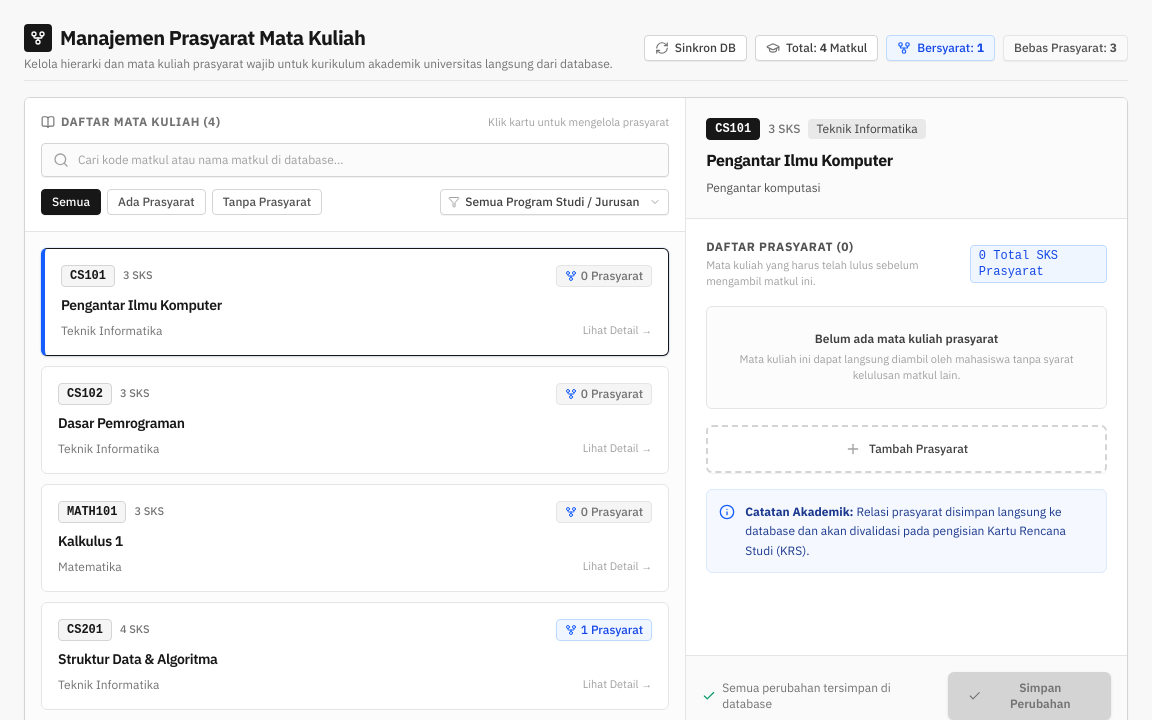
Test: SubjectPrerequisitesPage › removes a prerequisite when clicking the 'X' button and enables 'Simpan Perubahan'
This screenshot has width=1152, height=720.
Check: the text "CS201" is shown, box [58,618,112,640]
Click the button "CS201" at [85, 630], box [41,602,669,710]
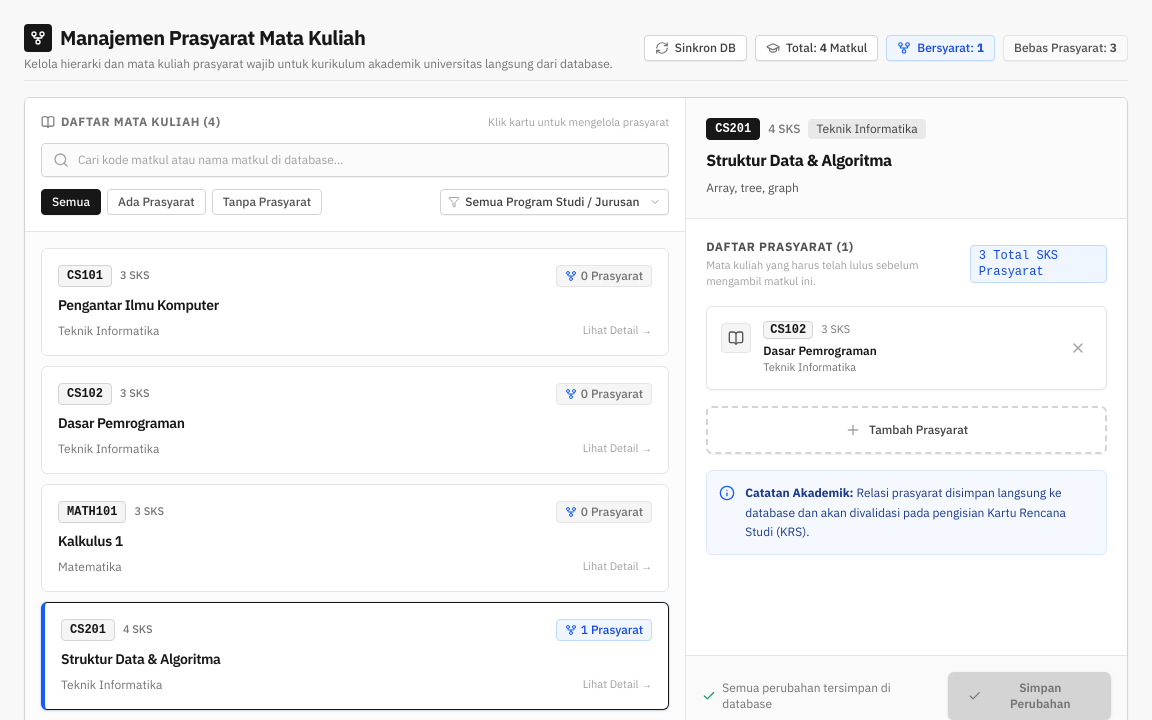
Check: the button "Simpan Perubahan" is disabled, box [948,672,1111,719]
Check: the button titled "Hapus prasyarat CS102" is shown
Click remove
Click the button titled "Hapus prasyarat CS102" at [1078, 348], box [1064,334,1092,362]
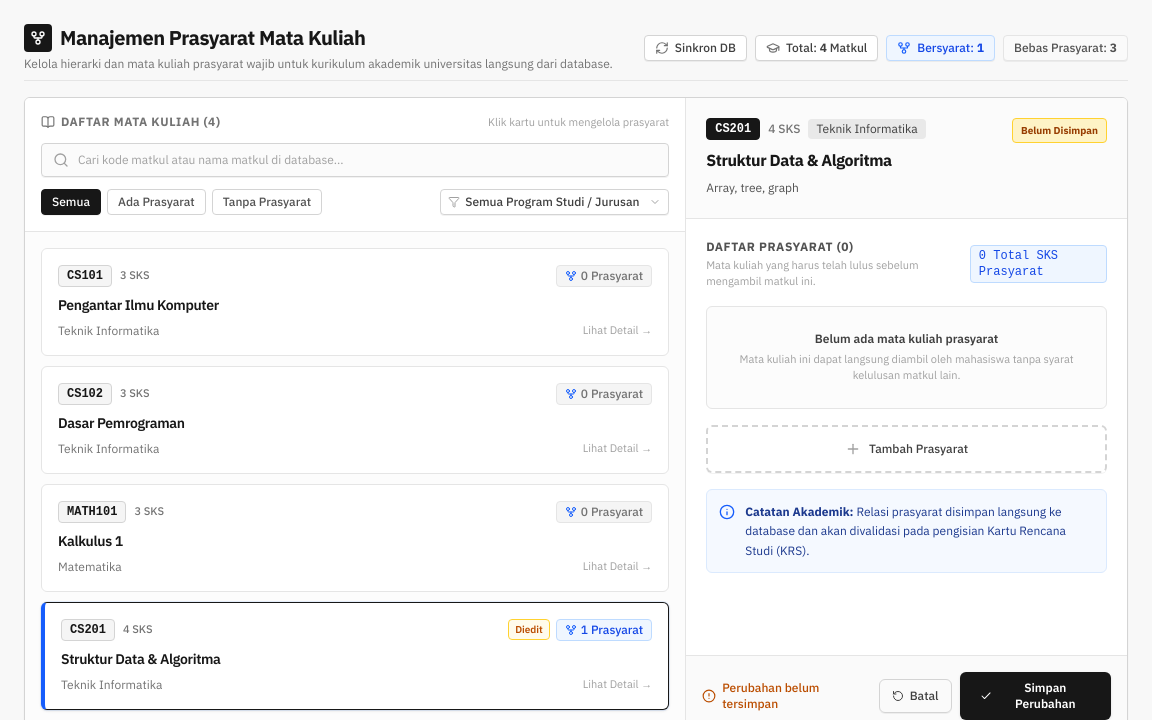
Check: the text "Perubahan belum tersimpan" is shown, box [722,680,820,711]
Check: the button "Simpan Perubahan" is enabled, box [960,672,1111,719]
Click 'Batal' to restore
Click the button "Batal" at [915, 696], box [879,679,952,713]
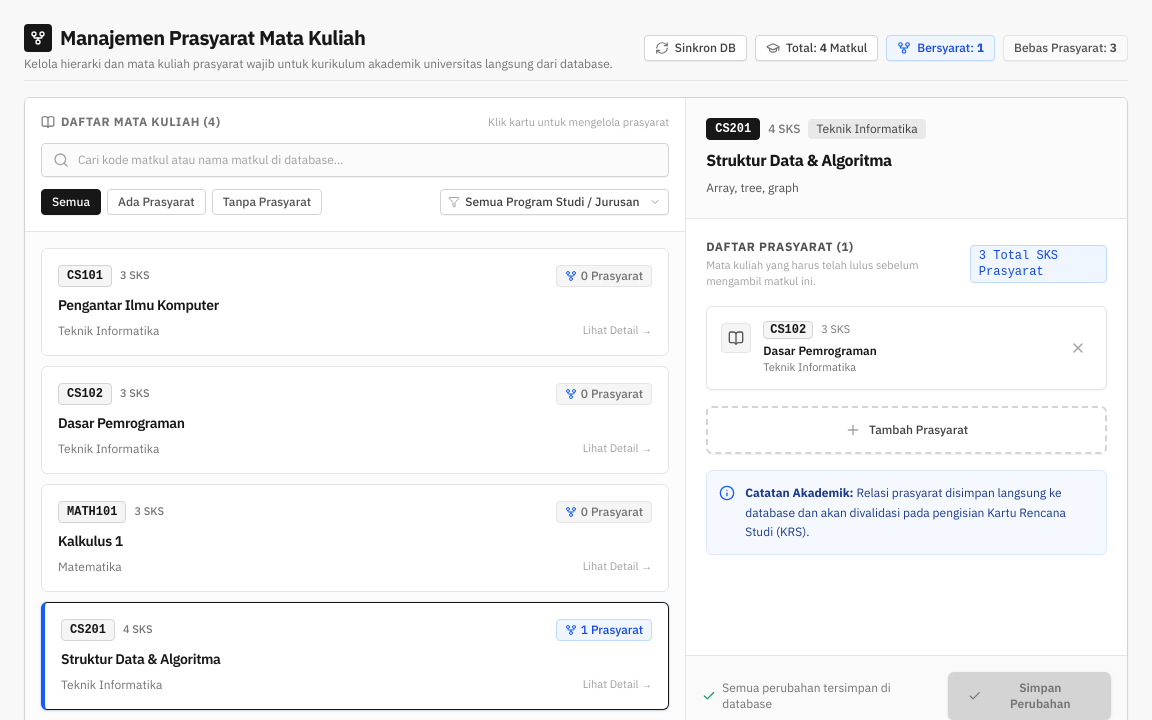
Check: the text "CS102" below "Total SKS Prasyarat" is shown, box [770,322,806,336]
